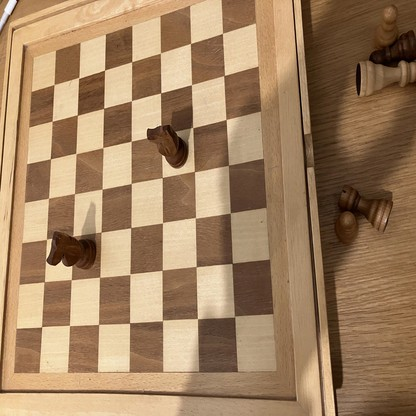knight_black: (48, 231, 96, 270), (148, 126, 189, 168)
pawn_black: (370, 34, 416, 64)
pawn_white: (373, 5, 397, 46), (336, 212, 358, 242)
rock_black: (341, 187, 393, 234)
